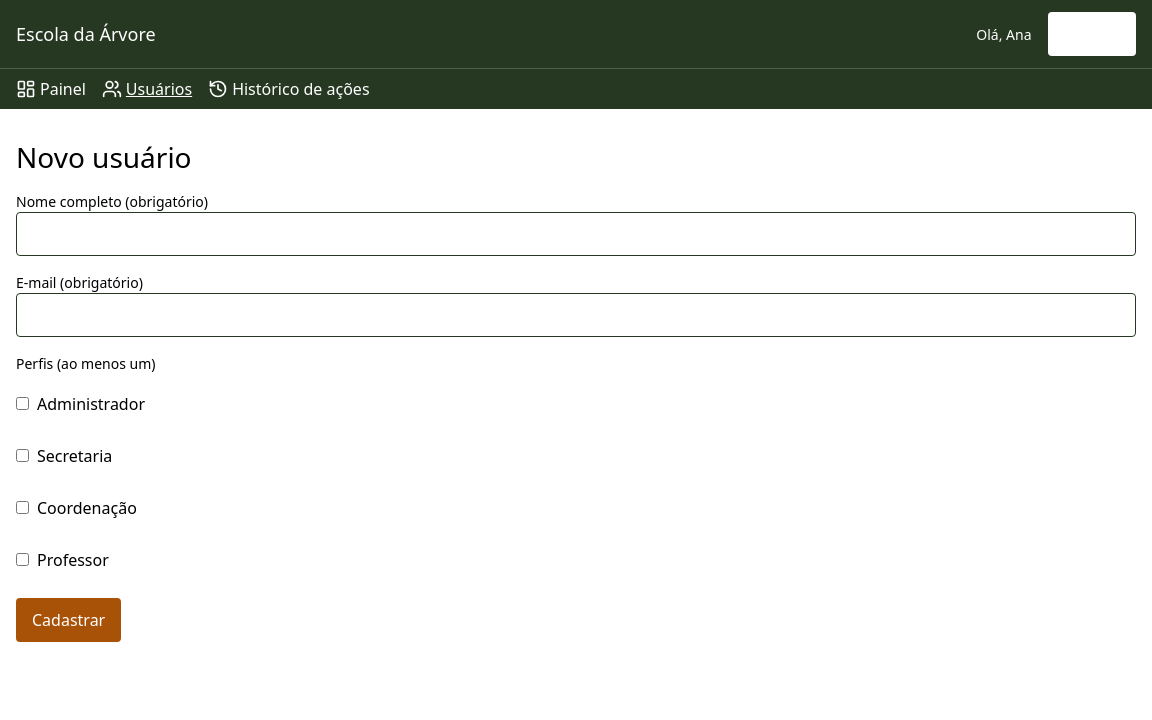
US2 — cadastro de usuário › cria usuário com nome, e-mail e perfil, que aparece na lista como ativo em primeiro acesso
Type "Beatriz Souza" into the field labelled "Nome completo (obrigatório)" at (576,234), box [16, 212, 1136, 256]
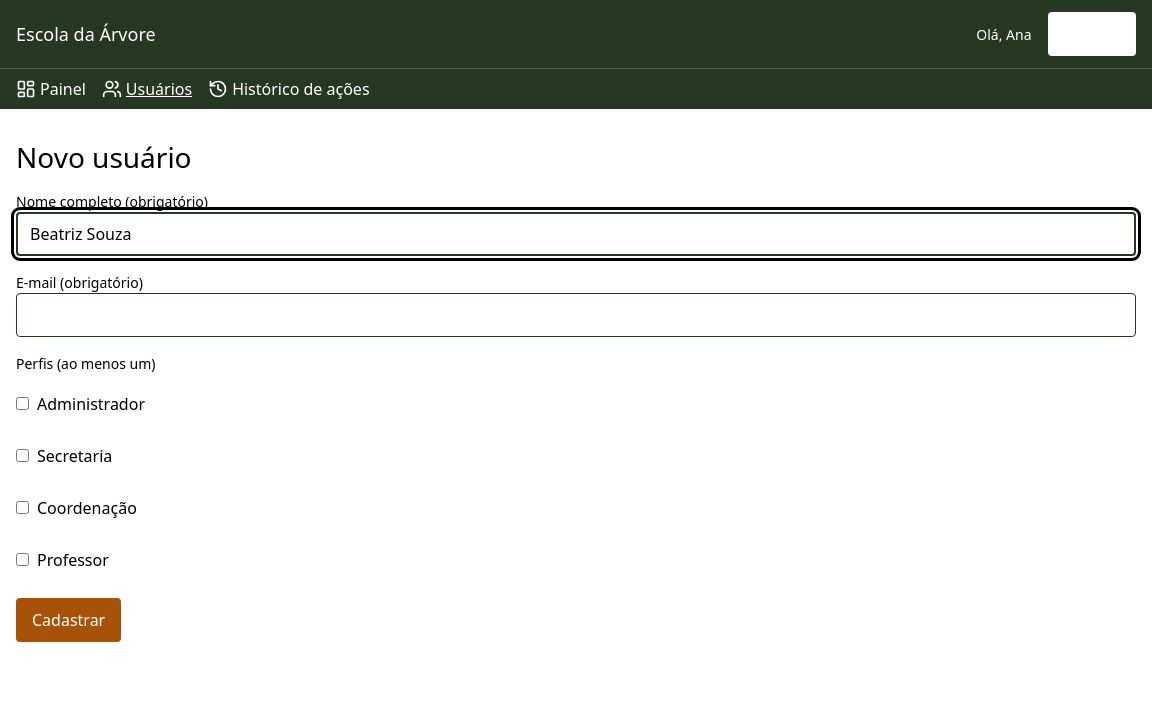
Type "beatriz@escola.local" into the field labelled "E-mail (obrigatório)" at (576,315), box [16, 293, 1136, 337]
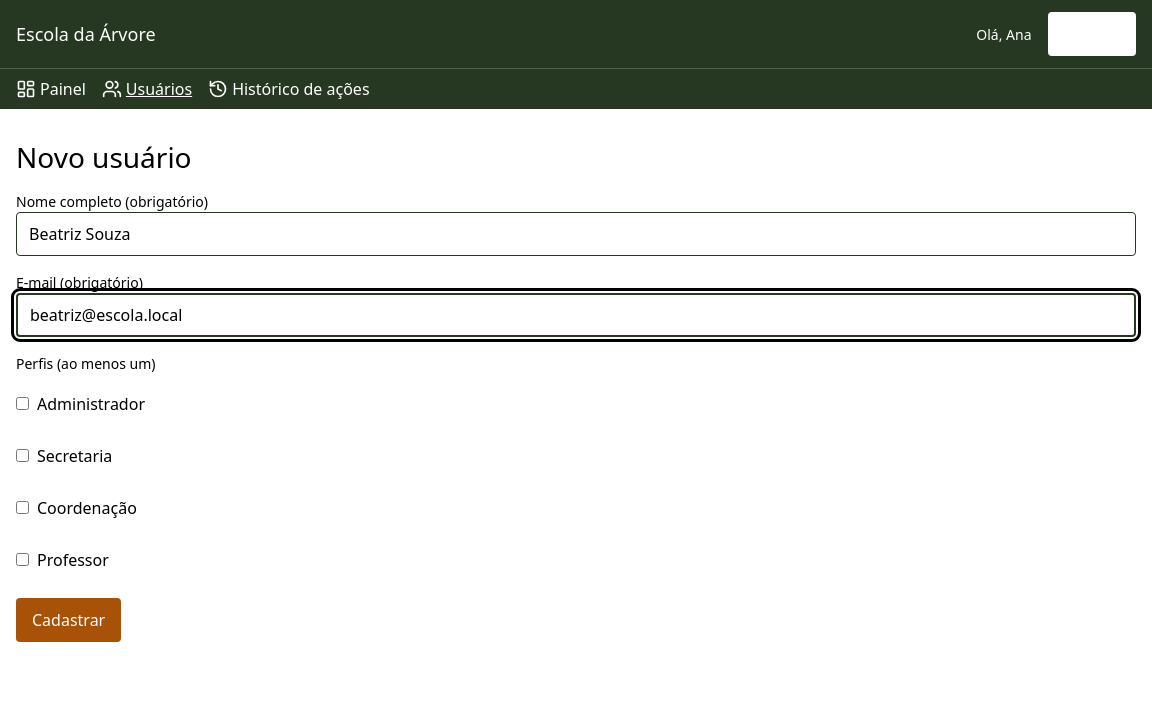
Click the checkbox labelled "Secretaria" at (22,456), box [16, 449, 29, 462]
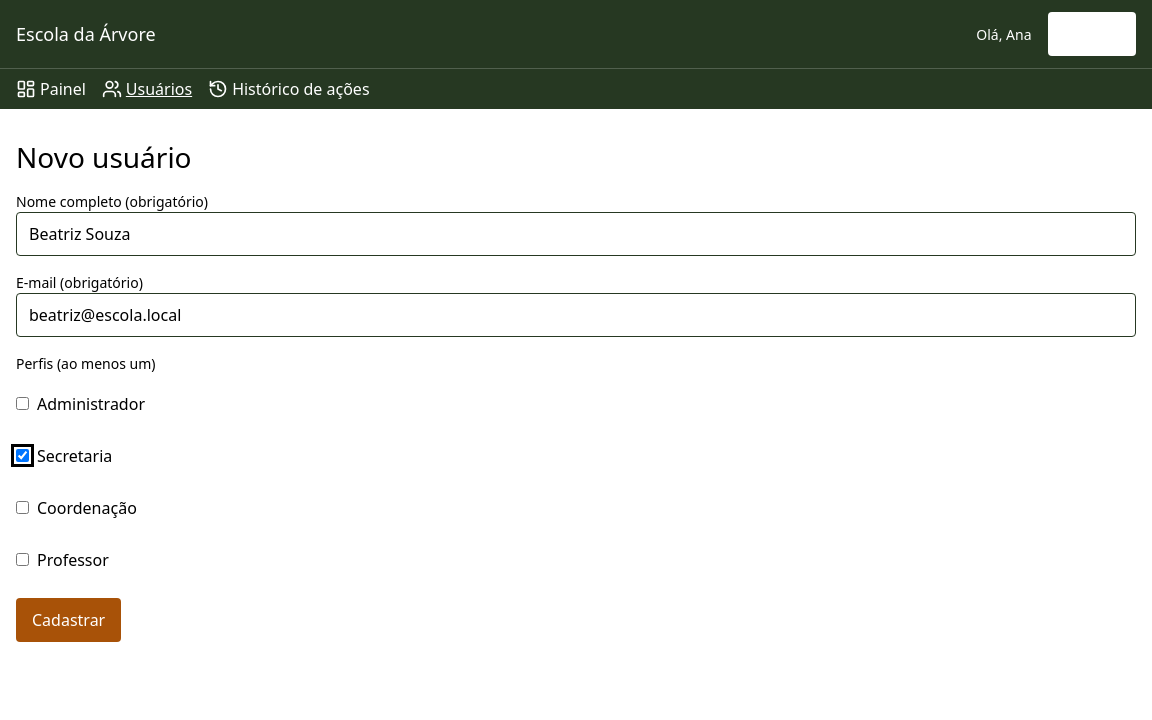
Click the button "Cadastrar" at (69,620), box [16, 598, 121, 642]
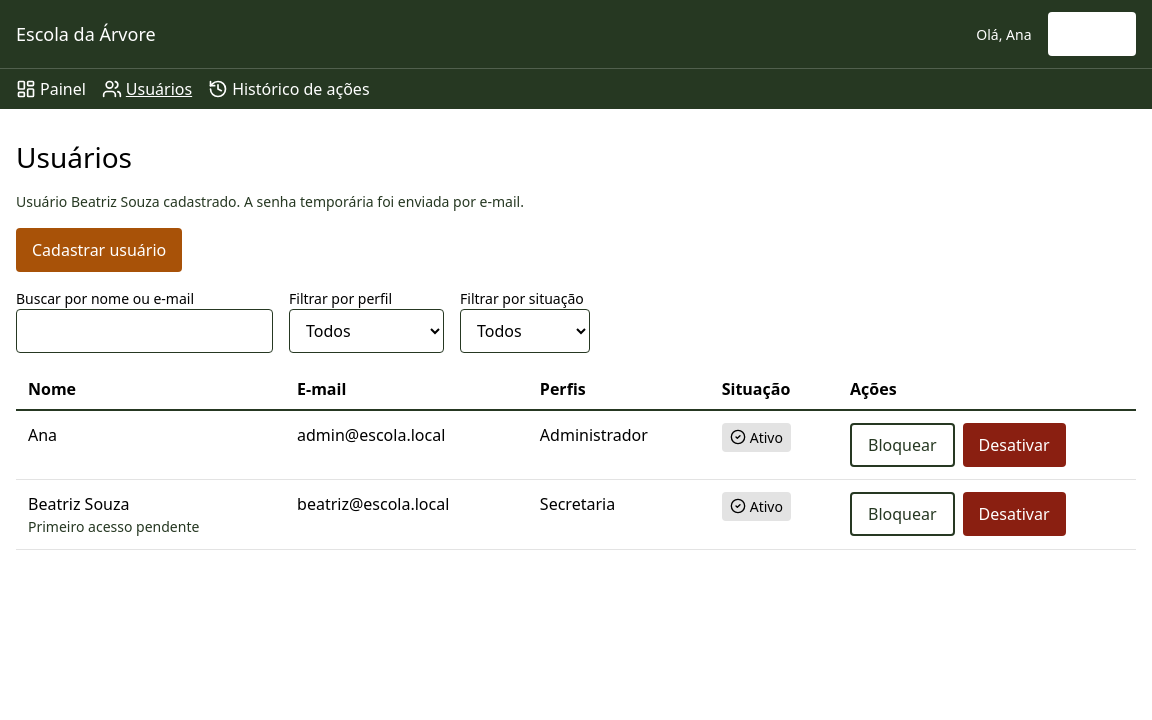
Check: the text "Beatriz Souza" is shown, box [28, 493, 130, 515]
Check: the text "Primeiro acesso pendente" is shown, box [28, 517, 199, 536]
Check: the text "Ativo" in the row of "Primeiro acesso pendente" is shown, box [750, 497, 783, 516]
